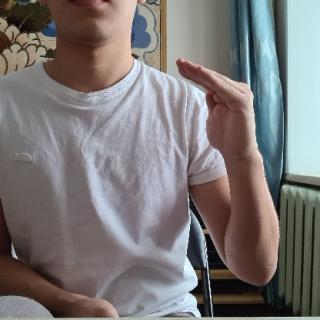HAA: (172, 56, 262, 163)
